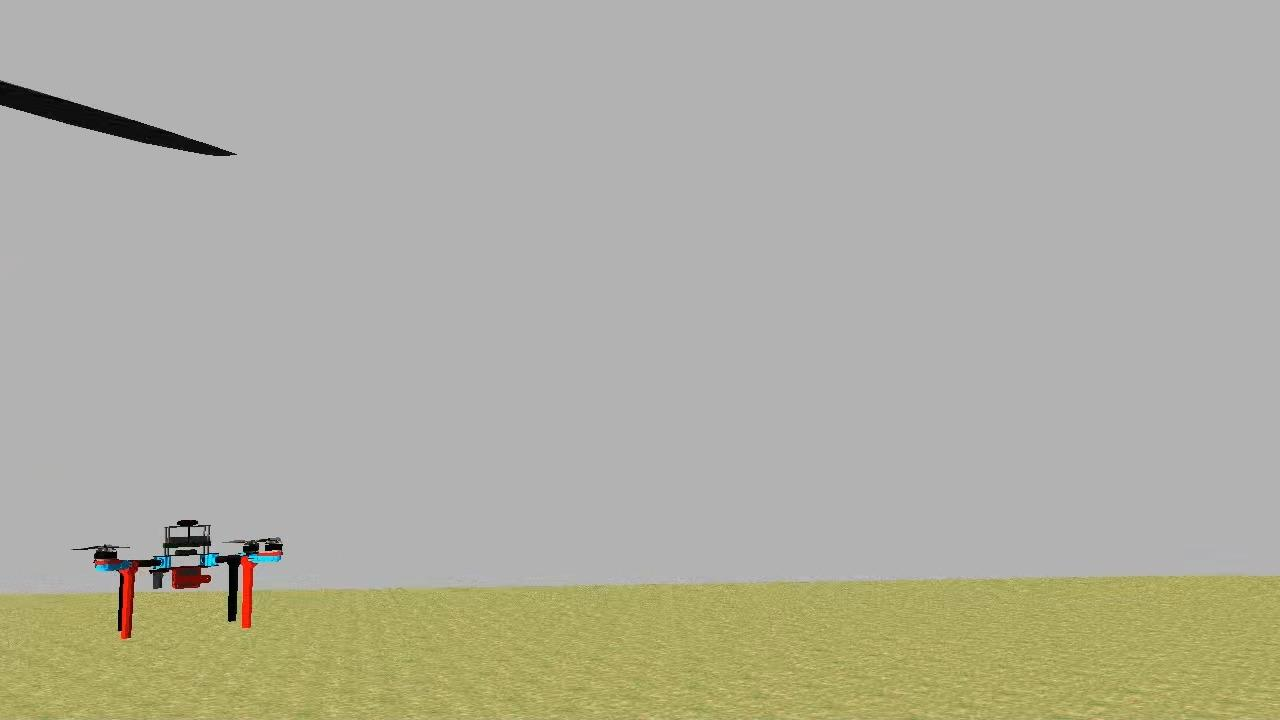UAV: (88, 516, 288, 640)
